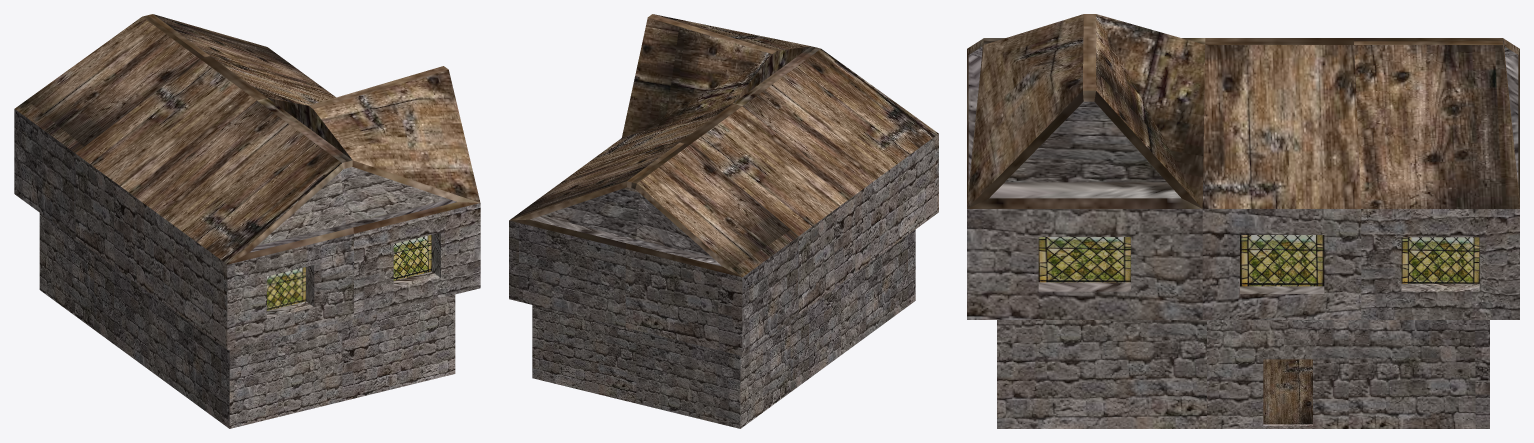
The model's file is Houses 1.fbx.
3 renders of one model, left to right at view 1: azimuth 30°, elevation 25°; view 2: azimuth 150°, elevation 25°; view 3: azimuth 270°, elevation 25°, orthographic. The views are drawn at different scales.
Parts seen in each view (by area): view 1: House 1; view 2: House 1; view 3: House 1.
Boxes of the visible parts, left/top/right/bottom form: House 1: left=14, top=14, right=480, bottom=428; House 1: left=509, top=14, right=938, bottom=428; House 1: left=967, top=14, right=1519, bottom=428.
Size of the model in its own units: 427 by 420 by 593.
